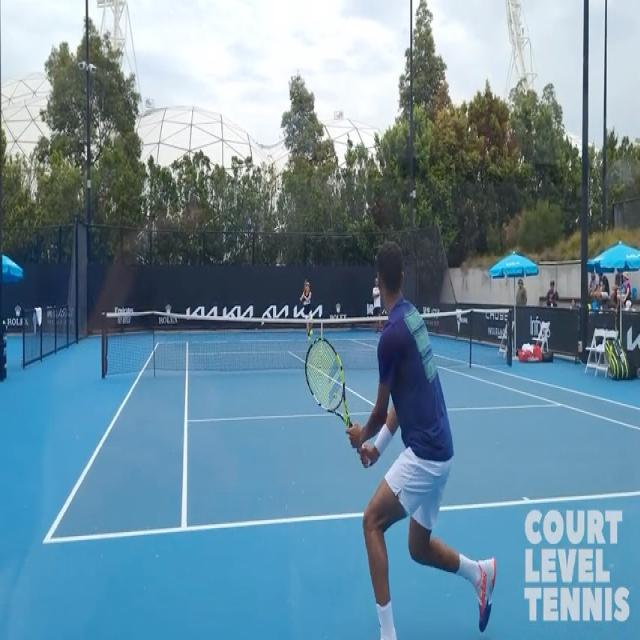backhand-ready: (301, 251, 501, 640)
